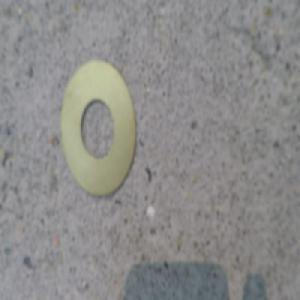Washer: (60, 62, 138, 202)
